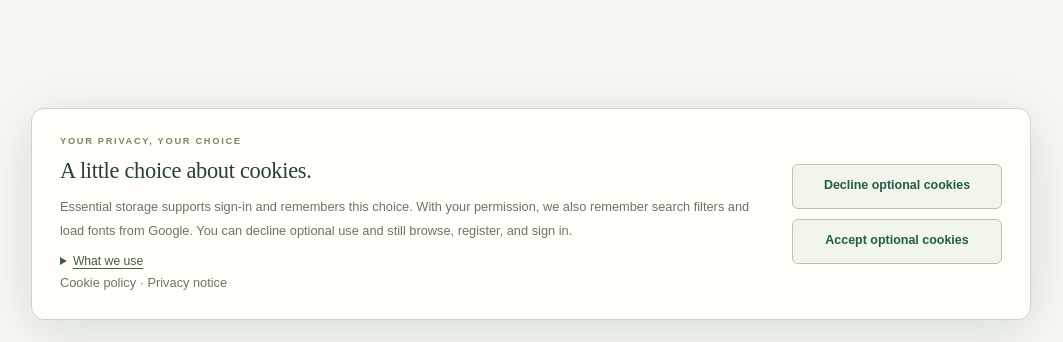
Scenario: fails closed with a usable explanation if cookie persistence is blocked
The image size is (1063, 342).
Click the button "Accept optional cookies". click: (897, 241)
box: [792,219,1002,264]
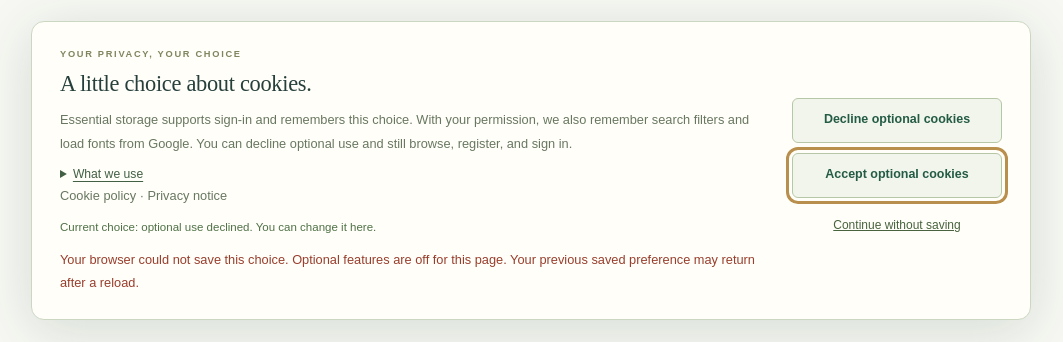
Result: the message shows "could not save" at [60,252,755,290]
Result: the button "Continue without saving" is shown at [792,208,1002,243]
